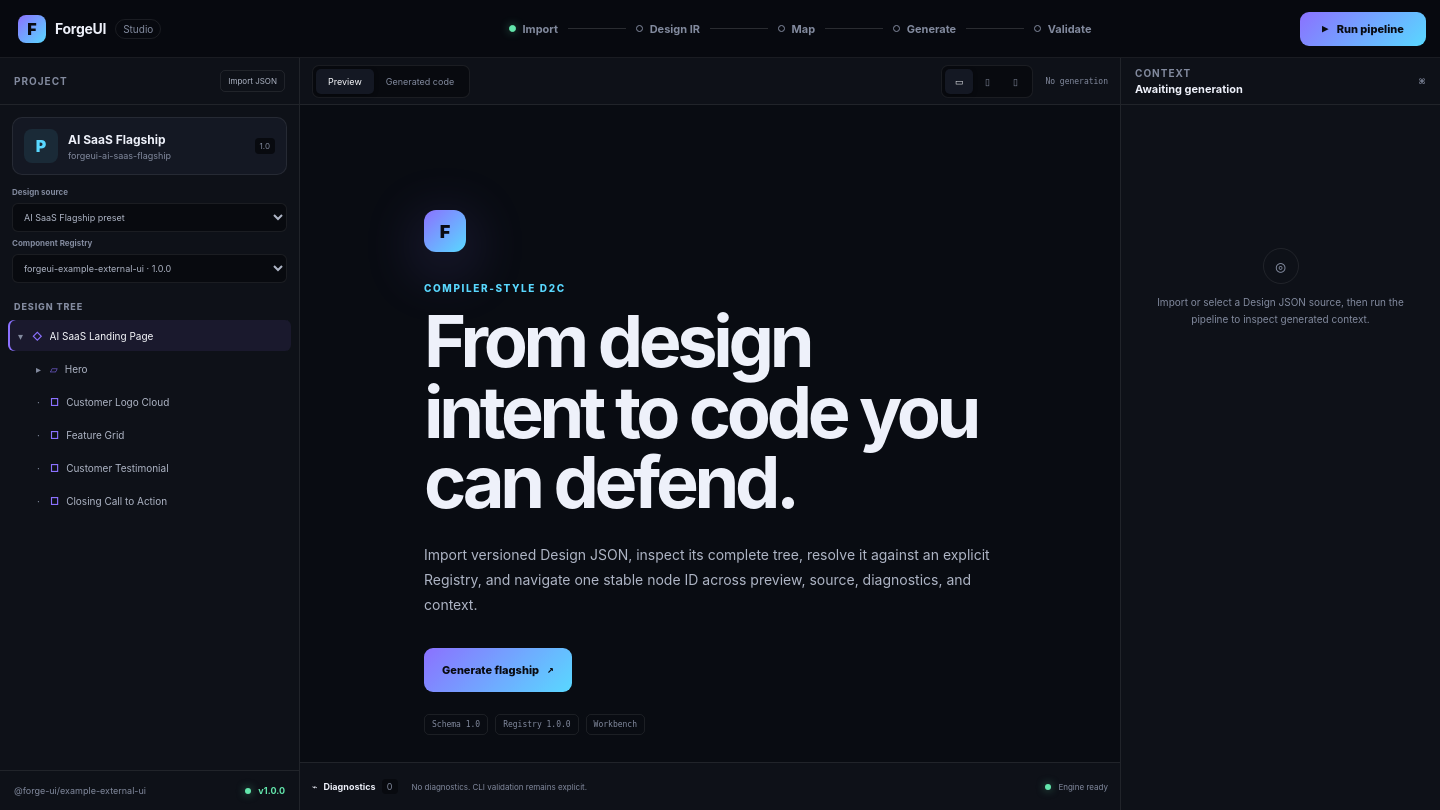
ForgeUI Studio › B04-UI-009 requires an explicit known Registry before generation
Step 1. Select "Choose a Registry" in the dropdown labelled "Component Registry" → (150, 268), box [12,254,287,283]
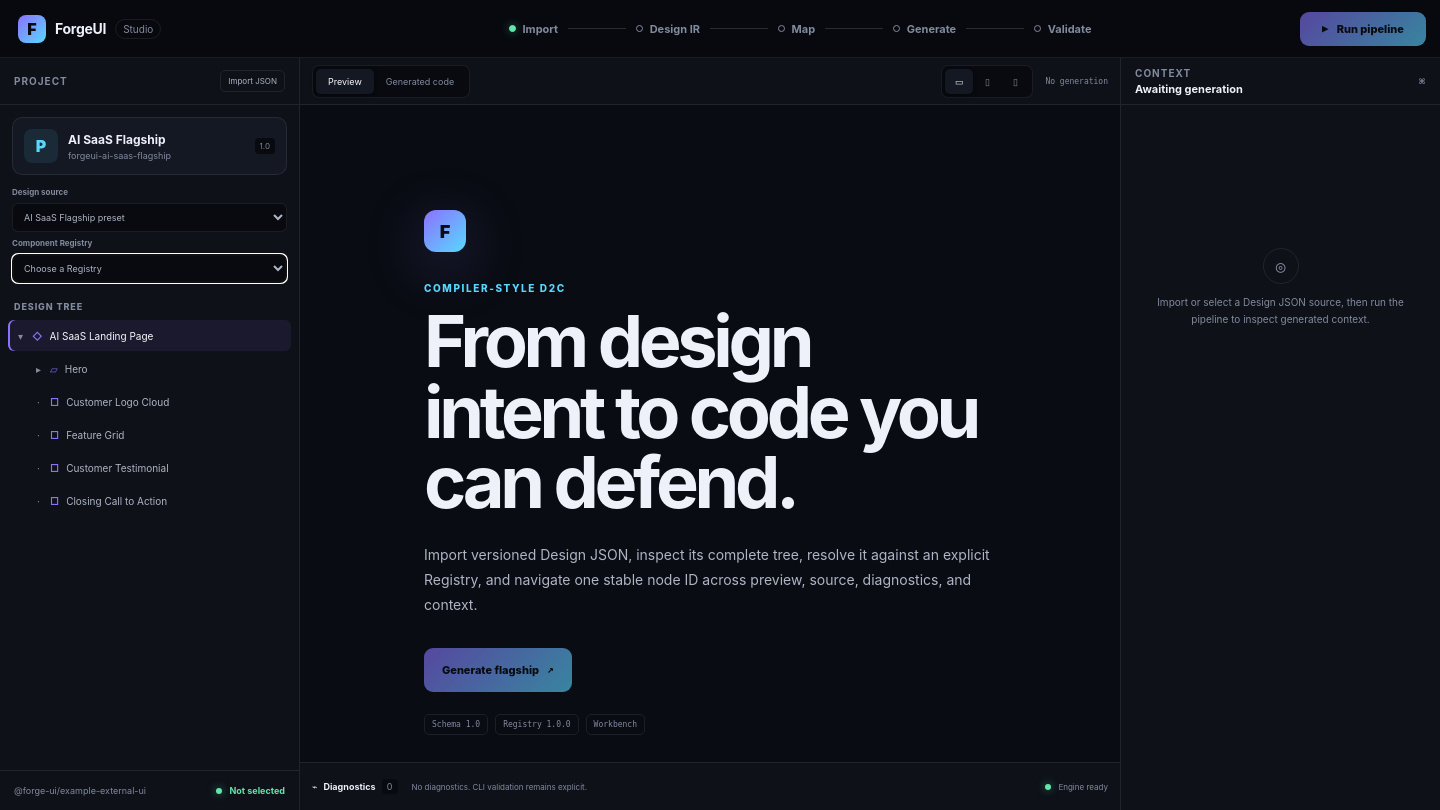
expect the button "Generate flagship ↗" is disabled: met, box [424,648,572,692]
expect the button "▶ Run pipeline" is disabled: met, box [1300,12,1426,46]
expect the text "Not selected" is shown: met, box [216,785,285,796]
